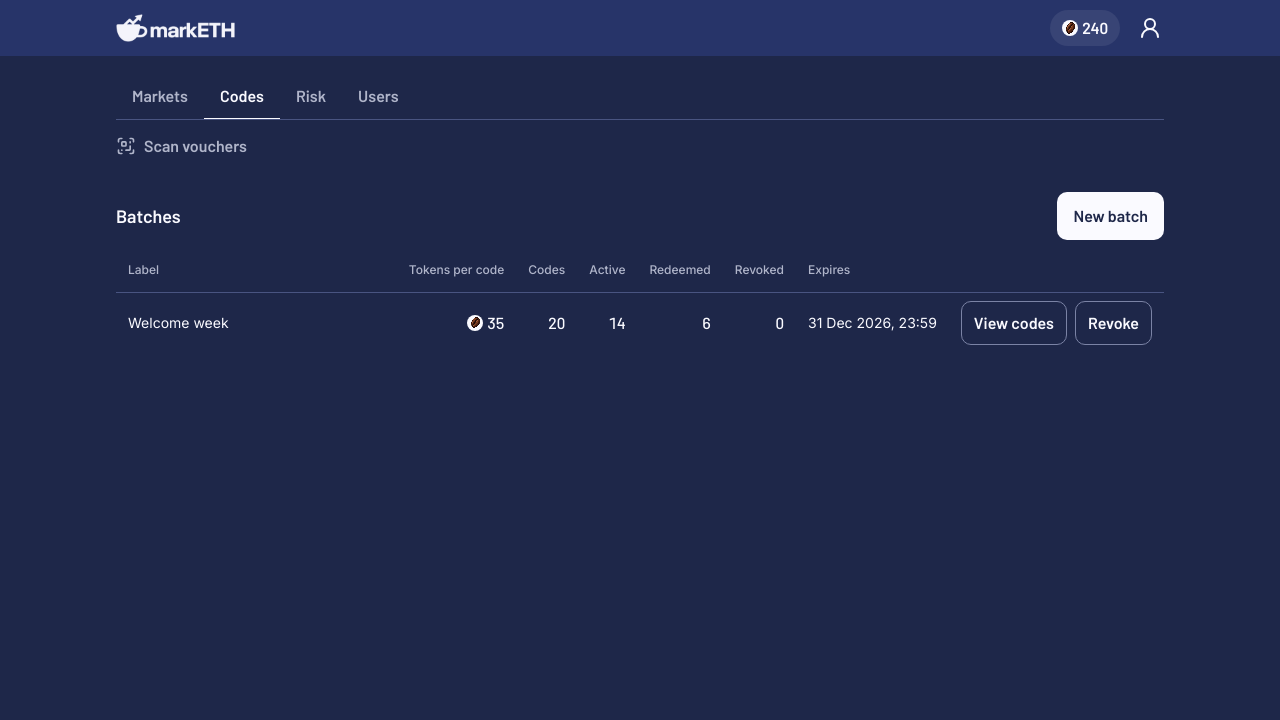
Test: New batch › the button waits until everything is filled in, and a number of codes takes digits alone
Expected: the table named "Batches" is shown, [116,248,1164,352]
Click the button "New batch" at (1111, 216), box [1057,192,1164,240]
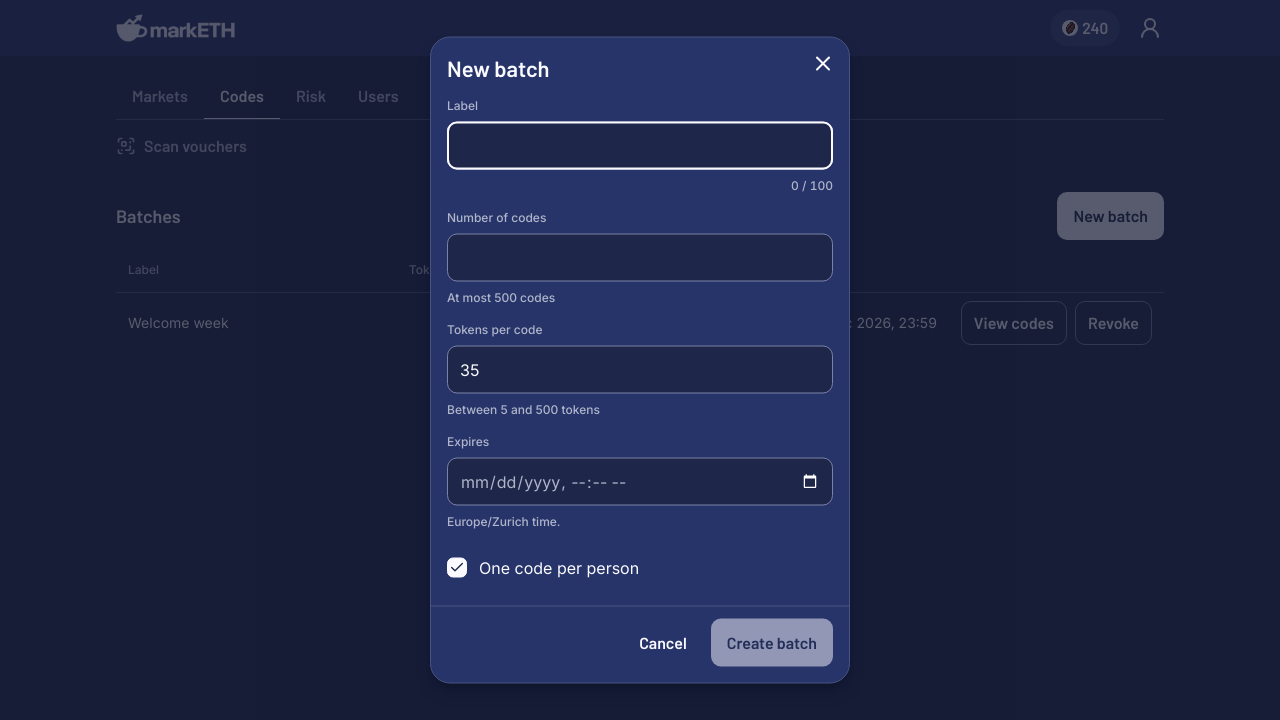
Type "Katerbrunch" into the field labelled "Label" at (640, 146), box [447,122,833,170]
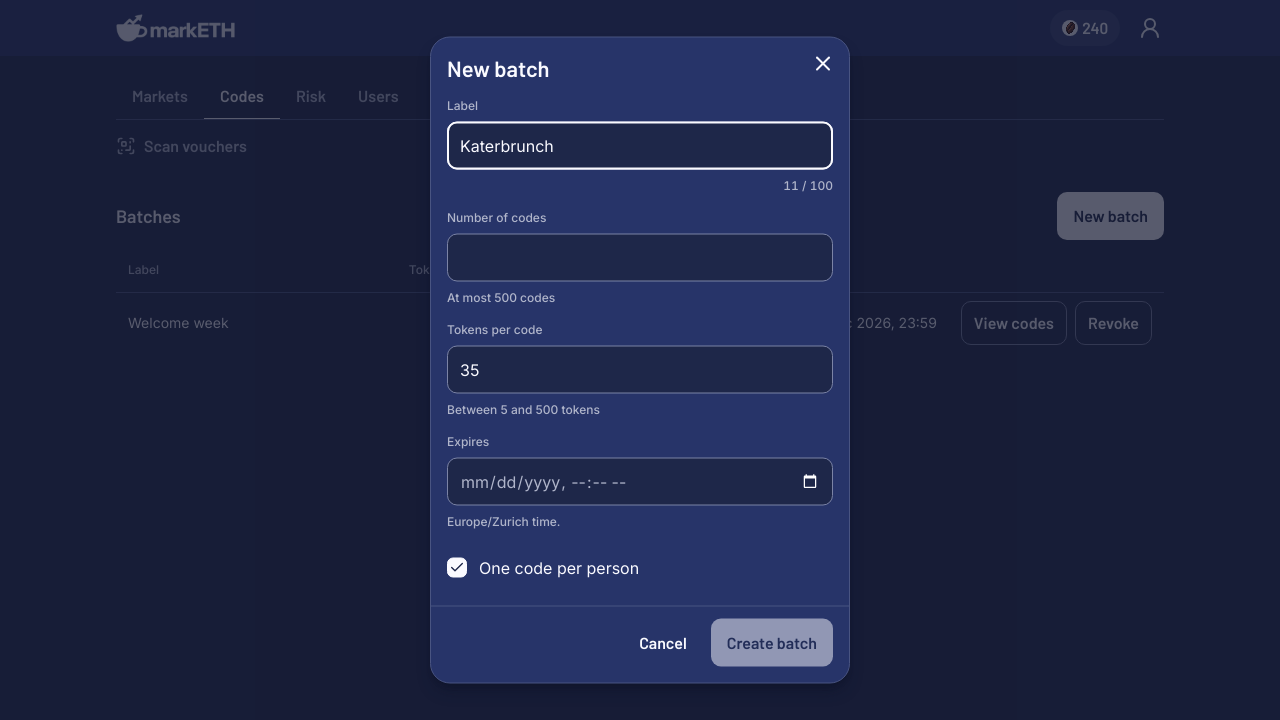
Type "2026-12-31T23:59" into the field labelled "Expires" at (640, 482), box [447,458,833,506]
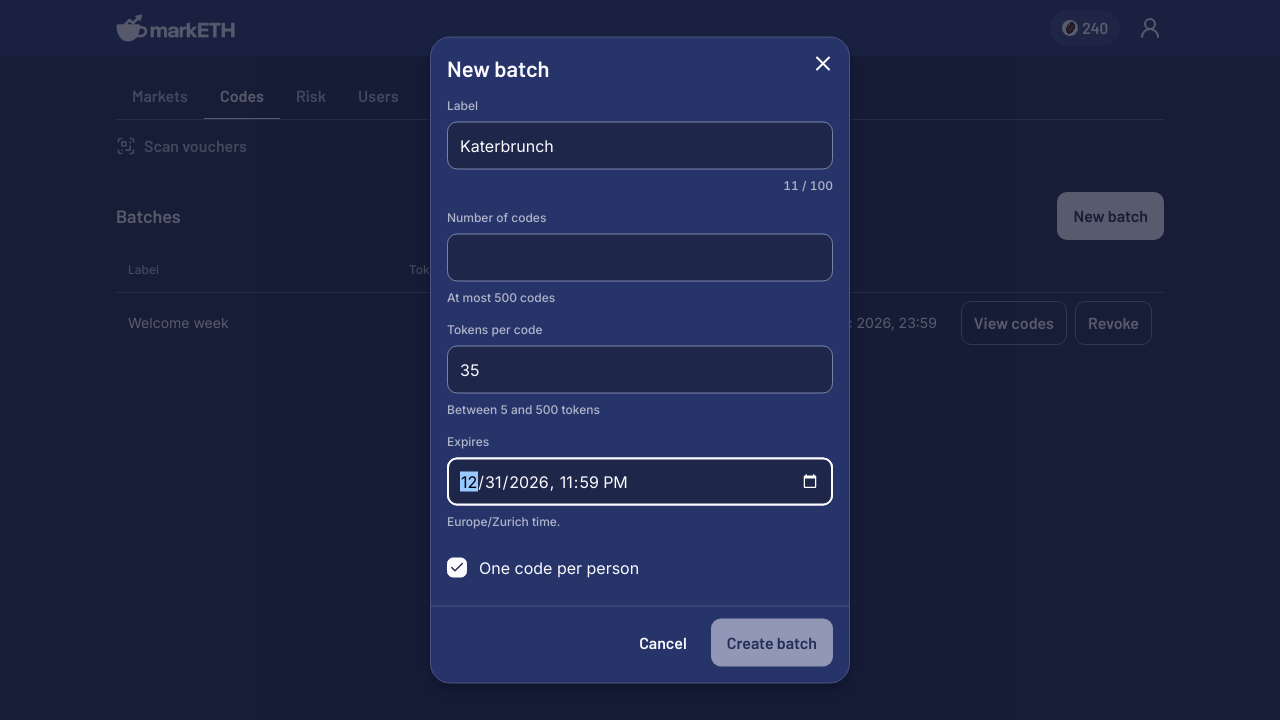
Expected: the button "Create batch" is disabled, [711,618,833,666]
Type "2o.-5" into the field labelled "Number of codes" at (640, 258), box [447,234,833,282]
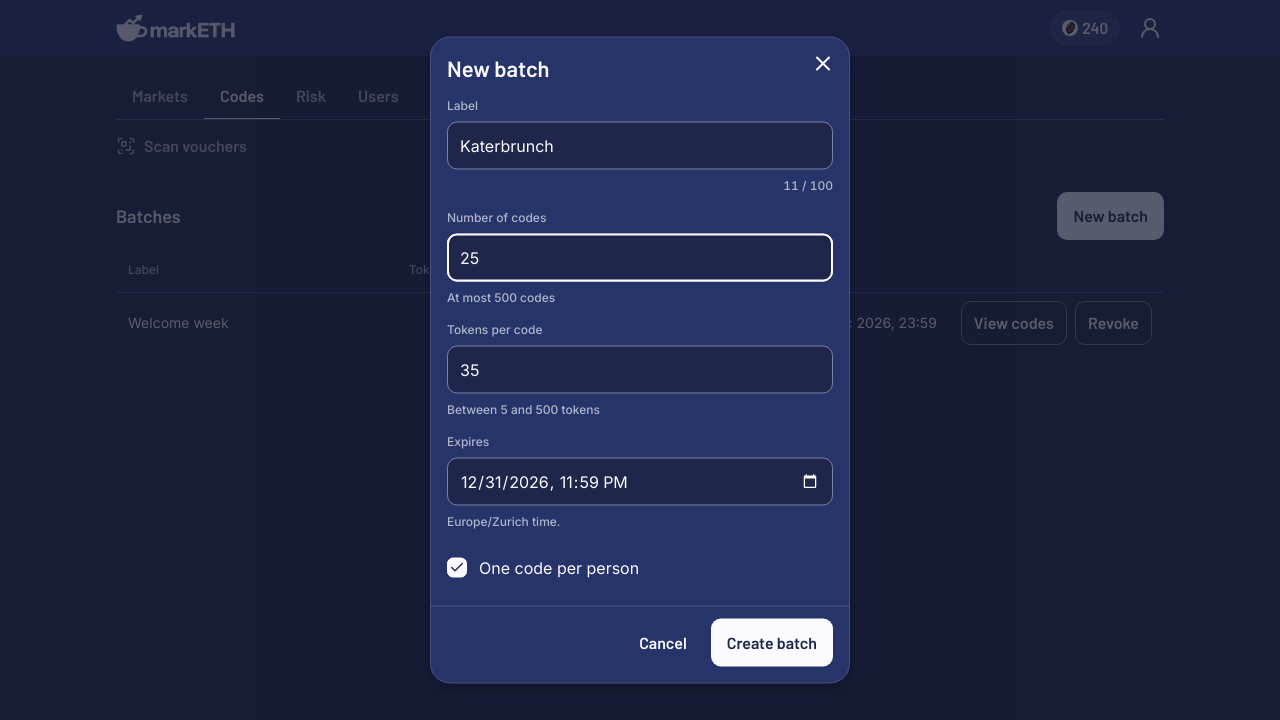
Expected: the field labelled "Number of codes" holds "25", [447,234,833,282]
Expected: the button "Create batch" is enabled, [711,618,833,666]
Clear the field labelled "Tokens per code" at (640, 370), box [447,346,833,394]
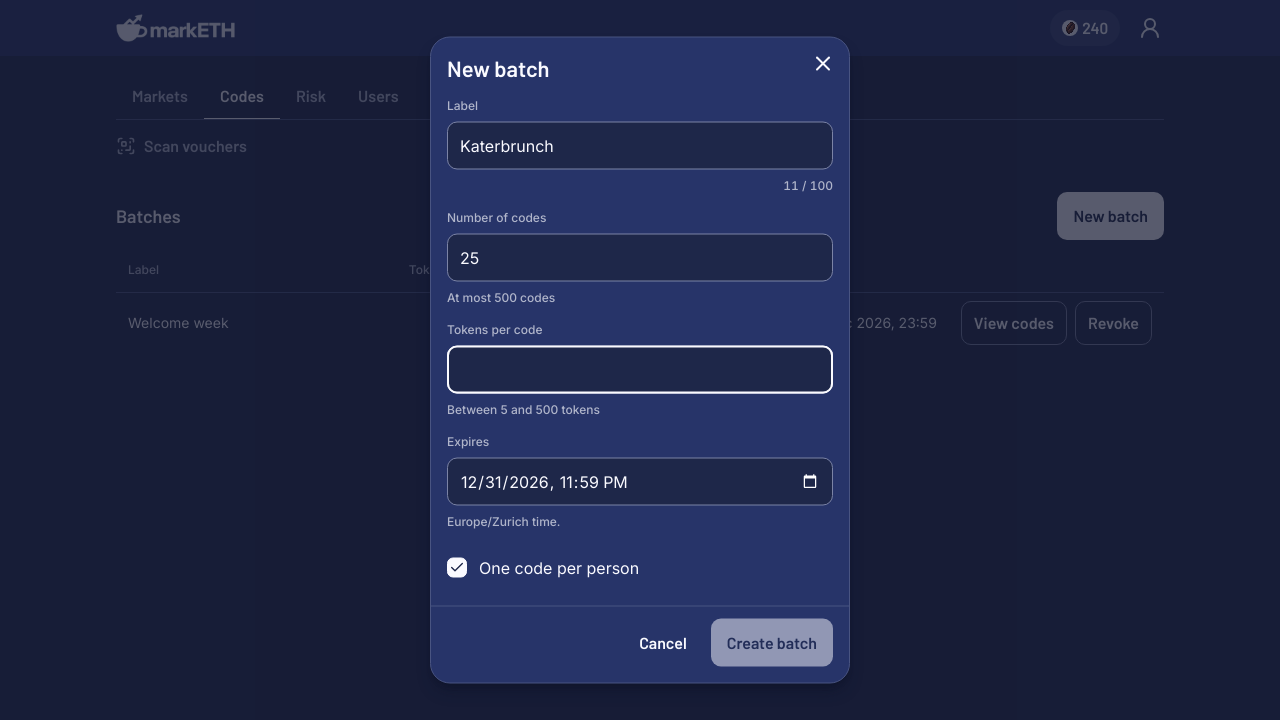
Expected: the button "Create batch" is disabled, [711,618,833,666]
